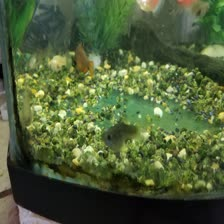Guppy: (98, 114, 150, 154)
Transparente: (71, 41, 97, 77)
